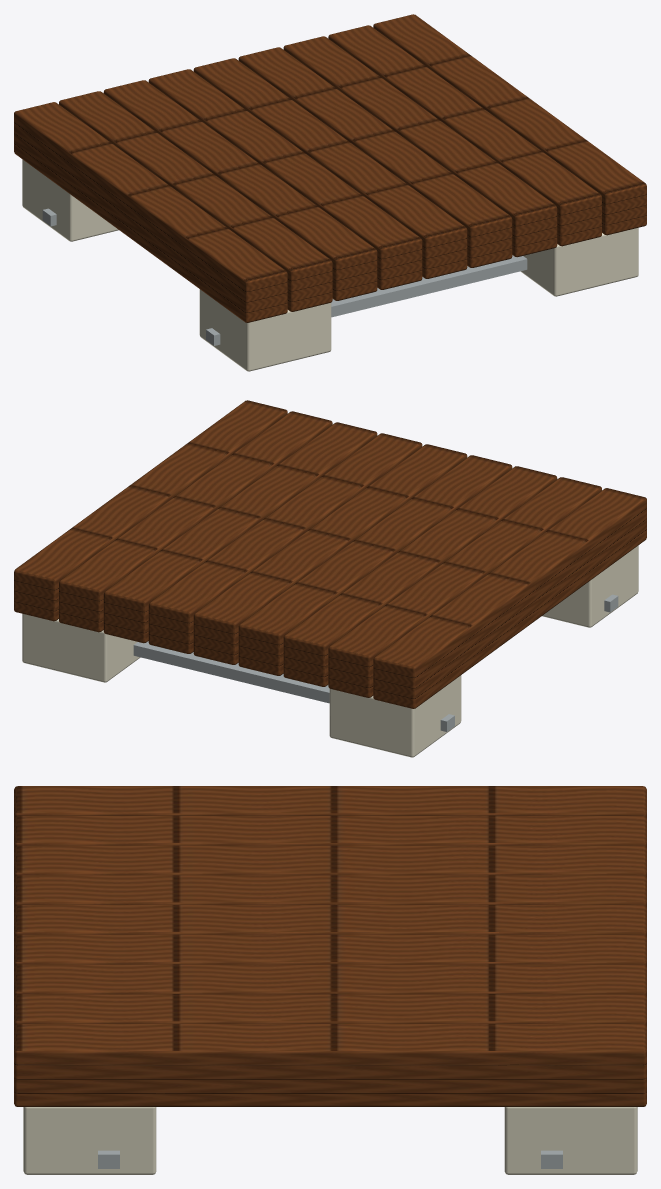
File: modular-survival-base-builder-rubble-foundation-reinfo-3d961459__24271.glb
3 renders of one model, top to bottom at view 1: azimuth 30°, elevation 25°; view 2: azimuth 150°, elevation 25°; view 3: azimuth 270°, elevation 25°, orthographic. The views are drawn at different scales.
Visible parts, largest first — view 1: rubble-foundation-reinforced; view 2: rubble-foundation-reinforced; view 3: rubble-foundation-reinforced.
Boxes of the visible parts, box(x1,y1,x2,y2) form: rubble-foundation-reinforced: box(14, 14, 646, 371); rubble-foundation-reinforced: box(14, 400, 646, 757); rubble-foundation-reinforced: box(14, 786, 646, 1174).
Size of the model in its own units: 2 by 0.4499 by 2.
3 materials, 1 textured.
